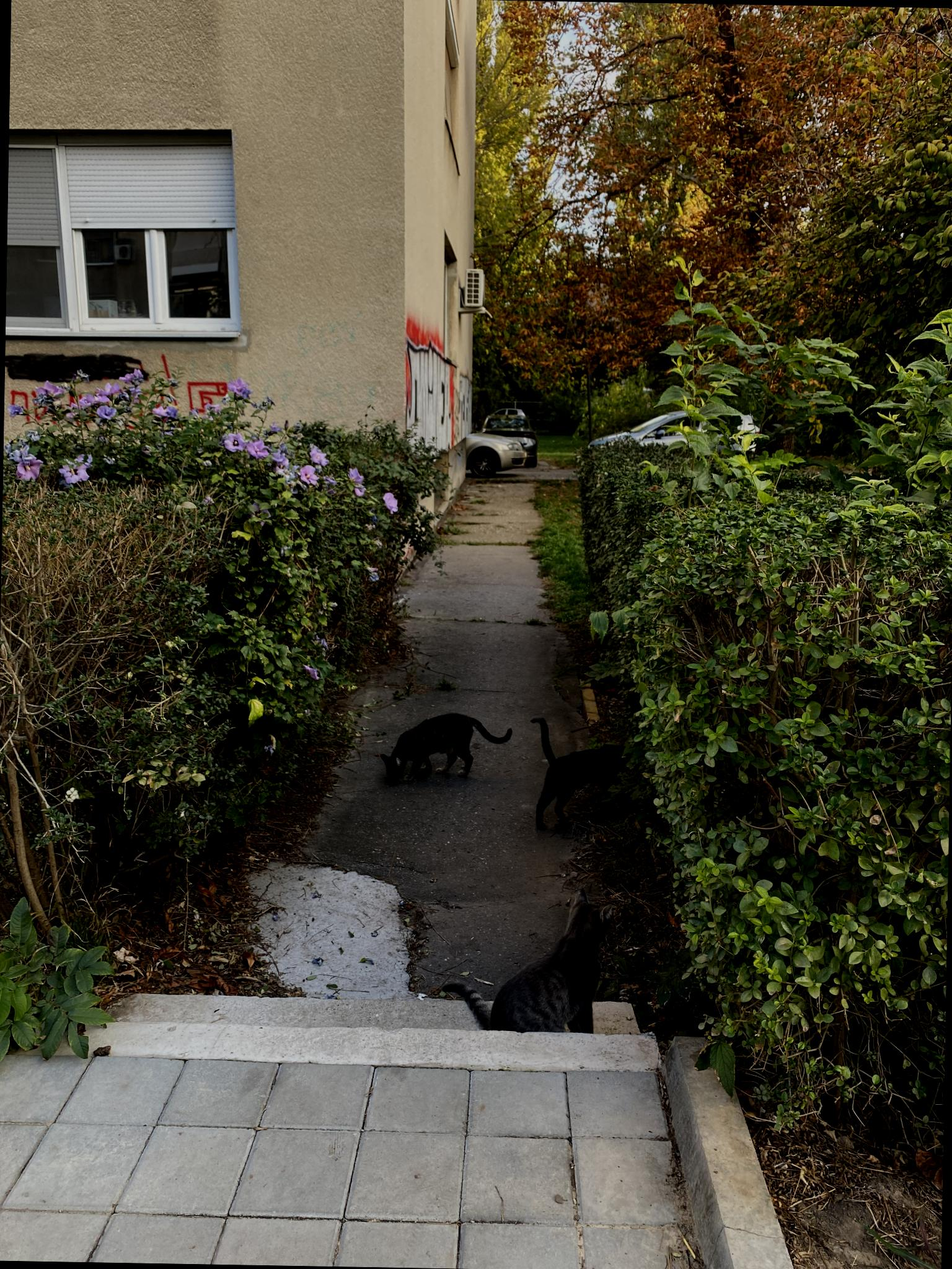macka: (441, 885, 612, 1034), (527, 718, 626, 831), (379, 713, 512, 787)
